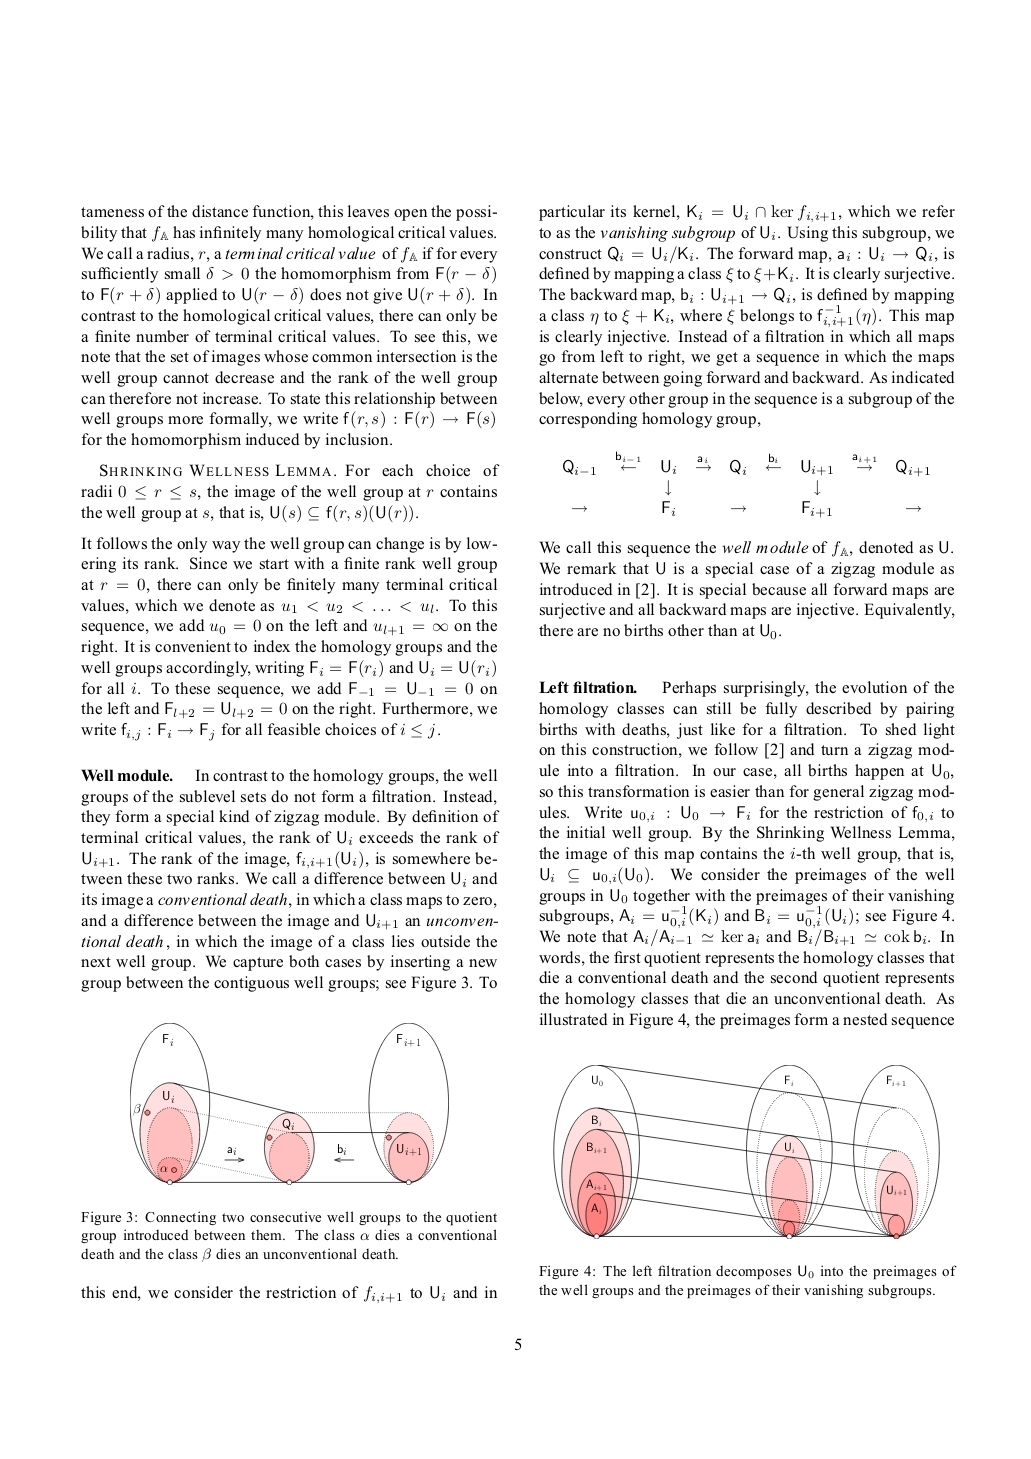figure: (553, 1064, 940, 1239), (131, 1021, 449, 1185)
formula: (563, 451, 929, 516)
